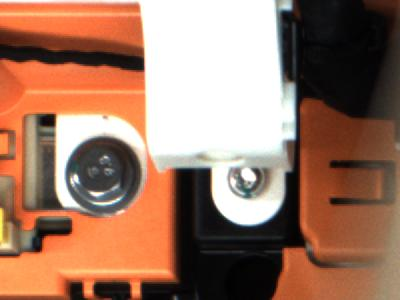nut_b: (67, 144, 137, 212)
